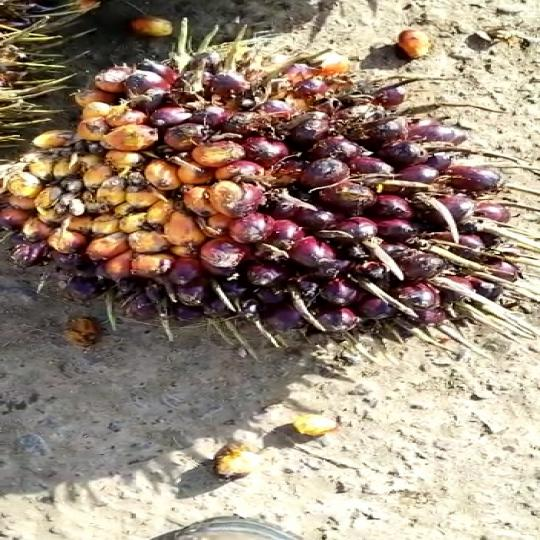kurang masak: (0, 23, 540, 377)
